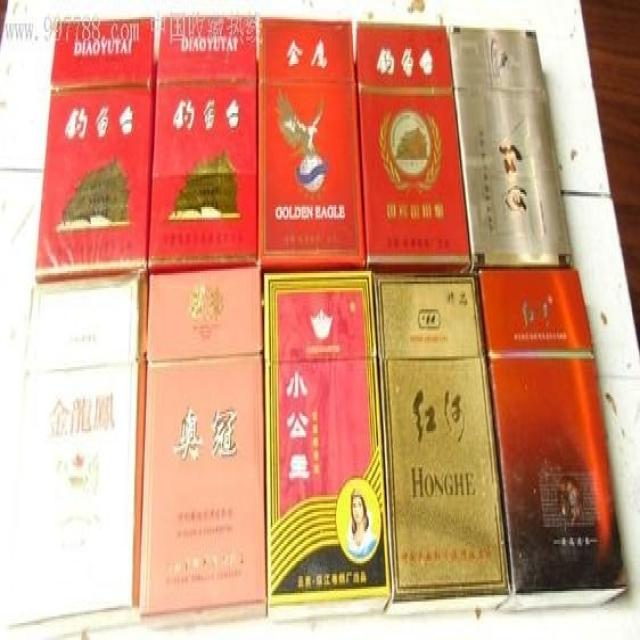box: (475, 267, 629, 614), (371, 271, 511, 617), (11, 273, 148, 625), (137, 265, 268, 619), (264, 271, 389, 623), (36, 15, 155, 284), (448, 23, 574, 273), (355, 21, 471, 275), (148, 13, 257, 273), (259, 17, 366, 269)
